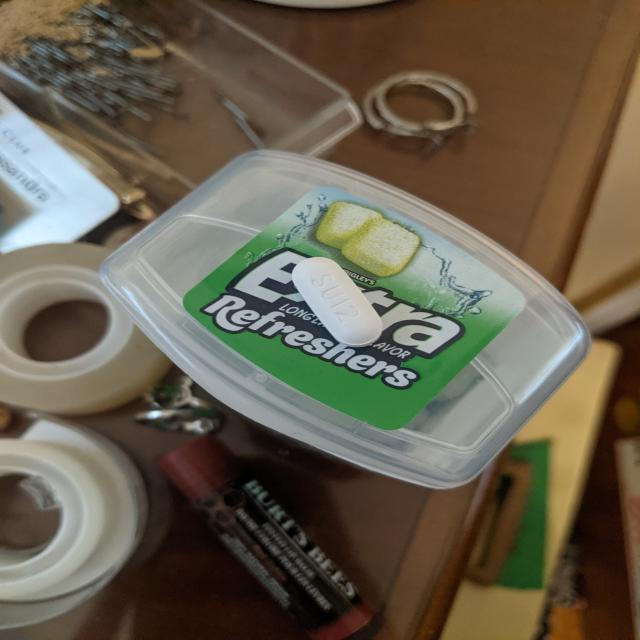non-organic waste: (291, 256, 385, 348)
